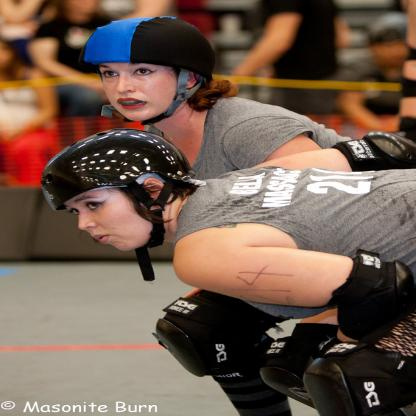Helmet: (43, 131, 194, 243), (78, 15, 218, 127)
